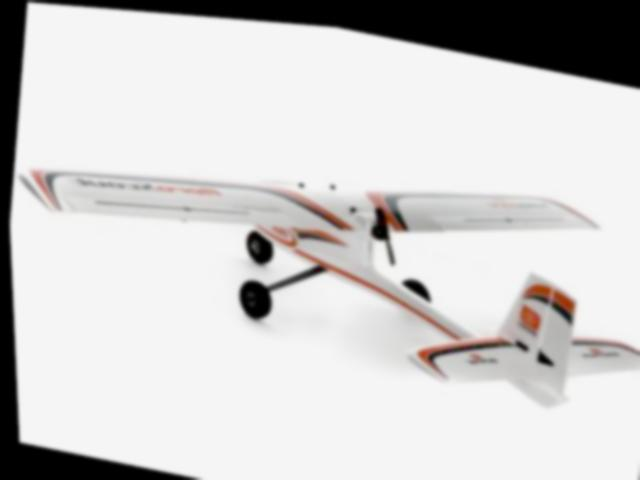uav: (3, 91, 640, 417)
